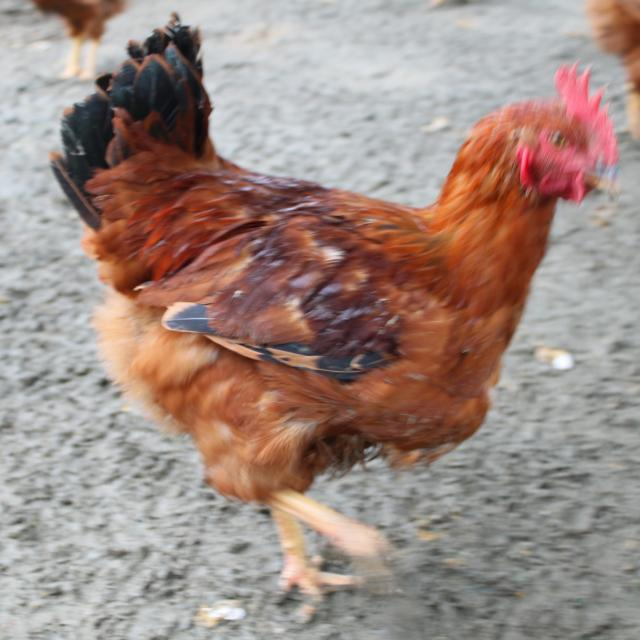cook: (51, 17, 618, 595)
